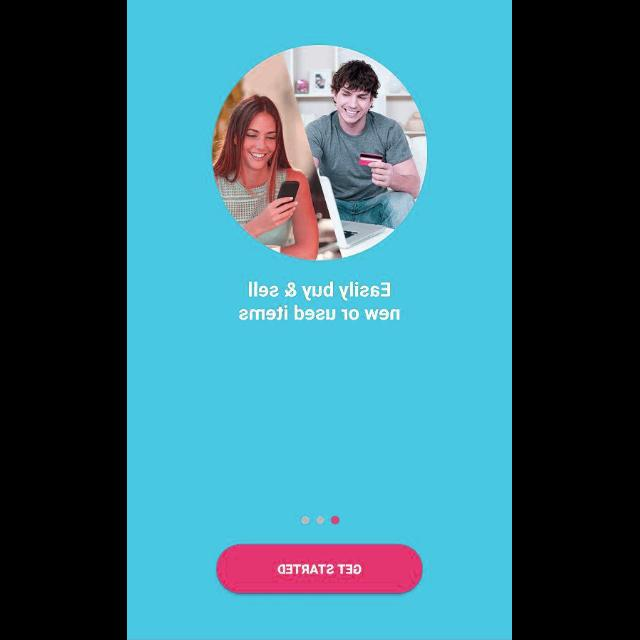image: (212, 46, 428, 260)
pageindicator: (300, 515, 340, 525)
text: (239, 281, 401, 321)
textbutton: (217, 544, 423, 594)
